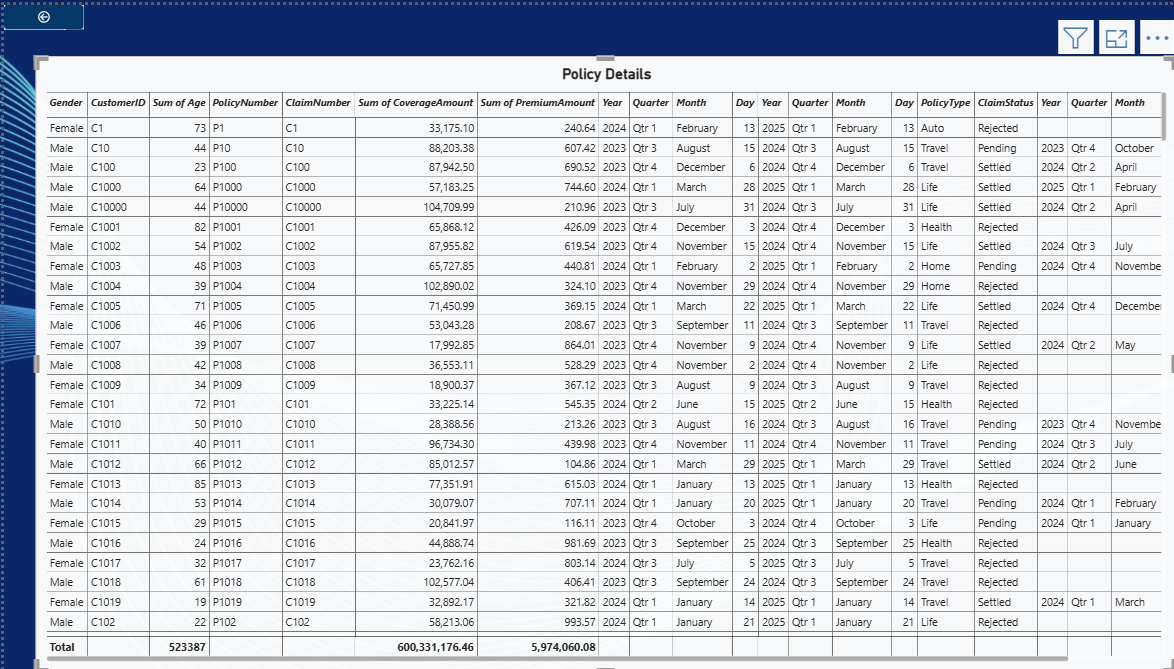

What the dashboard file says about the page in this screenshot:
{"tool":"powerbi","page":{"name":"Policy Details","canvas":[1920,1080],"ordinal":1},"visuals":[{"type":"actionButton","box":[0,0,100,40],"z":0},{"type":"tableEx","title":"Policy Details","fields":{"Values":["InsuranceData.Gender","InsuranceData.CustomerID","Sum(InsuranceData.Age)","InsuranceData.PolicyNumber","InsuranceData.ClaimNumber","Sum(InsuranceData.CoverageAmount)","Sum(InsuranceData.PremiumAmount)","InsuranceData.PolicyStartDate.Variation.Date Hierarchy.Year","InsuranceData.PolicyStartDate.Variation.Date Hierarchy.Quarter","InsuranceData.PolicyStartDate.Variation.Date Hierarchy.Month","InsuranceData.PolicyStartDate.Variation.Date Hierarchy.Day","InsuranceData.PolicyEndDate.Variation.Date Hierarchy.Year"]},"box":[51.2,82.9,1848.8,997.6],"z":1},{"type":"actionButton","box":[0,0,129.3,39],"z":2}]}

Visuals, with their boxes on the page's 1920x1080 design canvas (x1, y1, x2, y2). These are canvas units, not pixel positions in the 1174x669 screenshot, which may show the page scaled, cropped or inside an application window:
actionButton: rect(0, 0, 100, 40)
"Policy Details" tableEx: rect(51, 83, 1900, 1080)
actionButton: rect(0, 0, 129, 39)
